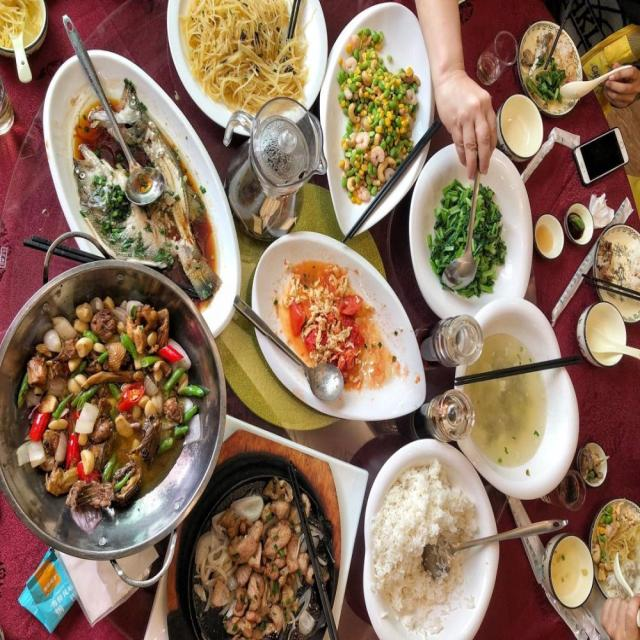ca hap: (41, 49, 240, 290)
canh cai: (422, 150, 518, 313)
com trang: (364, 440, 512, 638)
heo xao: (184, 462, 347, 640)
oc xao: (0, 290, 227, 550)
san xao: (178, 0, 314, 121)
tom xao rau cu: (325, 10, 452, 223)
